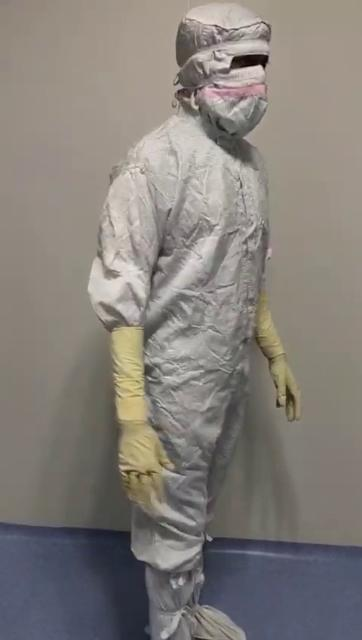boot_secured: (130, 488, 250, 640)
gloves_fitted_securely: (78, 299, 174, 496), (240, 276, 316, 444)
headgear_secured: (174, 3, 292, 147)
